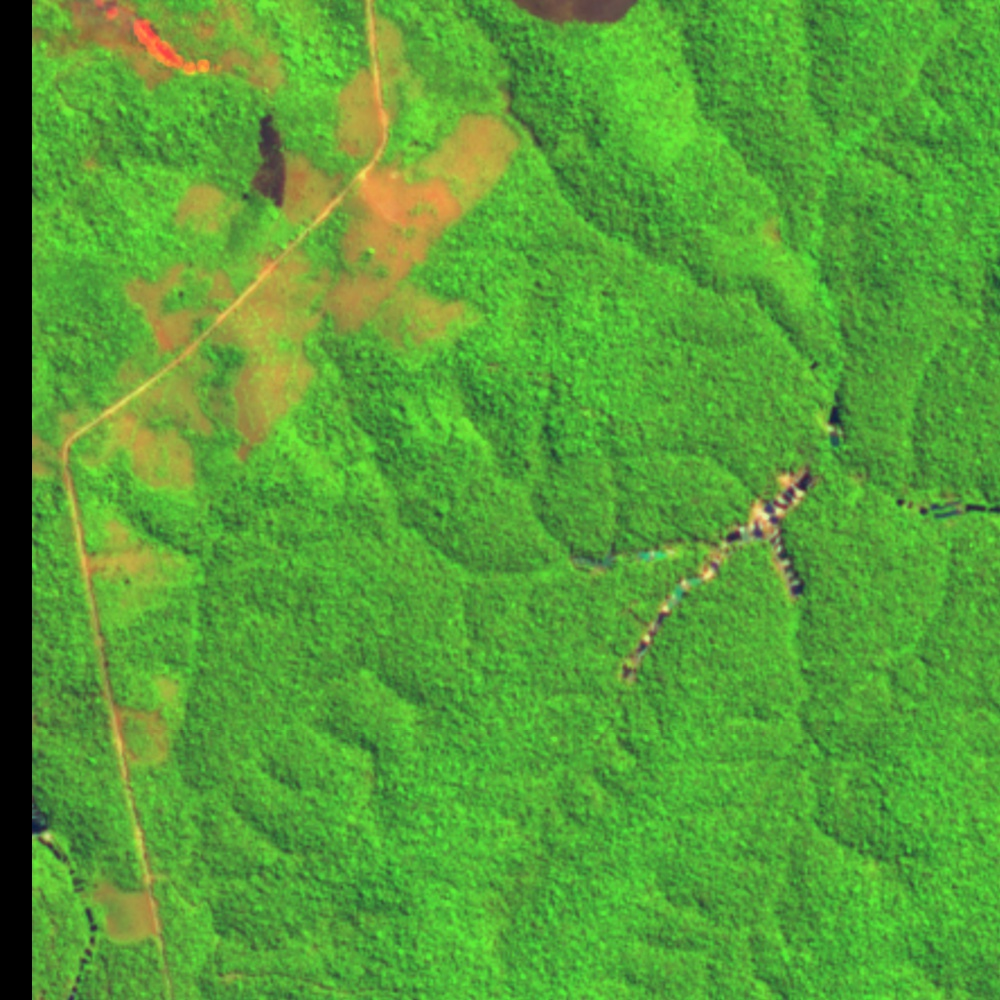illegal: (565, 460, 828, 693), (31, 798, 103, 999), (805, 354, 873, 486), (878, 482, 1000, 527)
